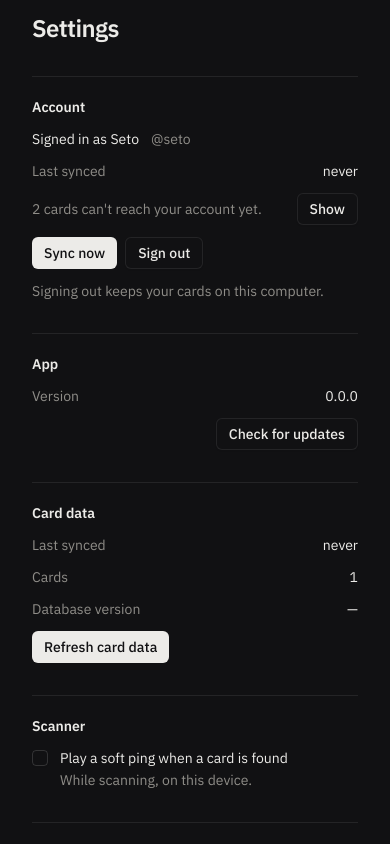
SettingsPage › unsynced dialog states › says it could not load the list when the request fails
Click the button "Show" at (327, 209), box [296,193,358,225]
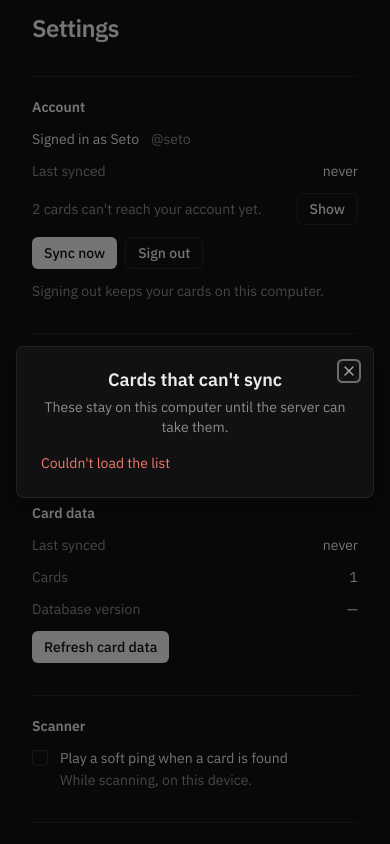
Expected: the text "Couldn't load the list" is shown, [41,454,170,472]
